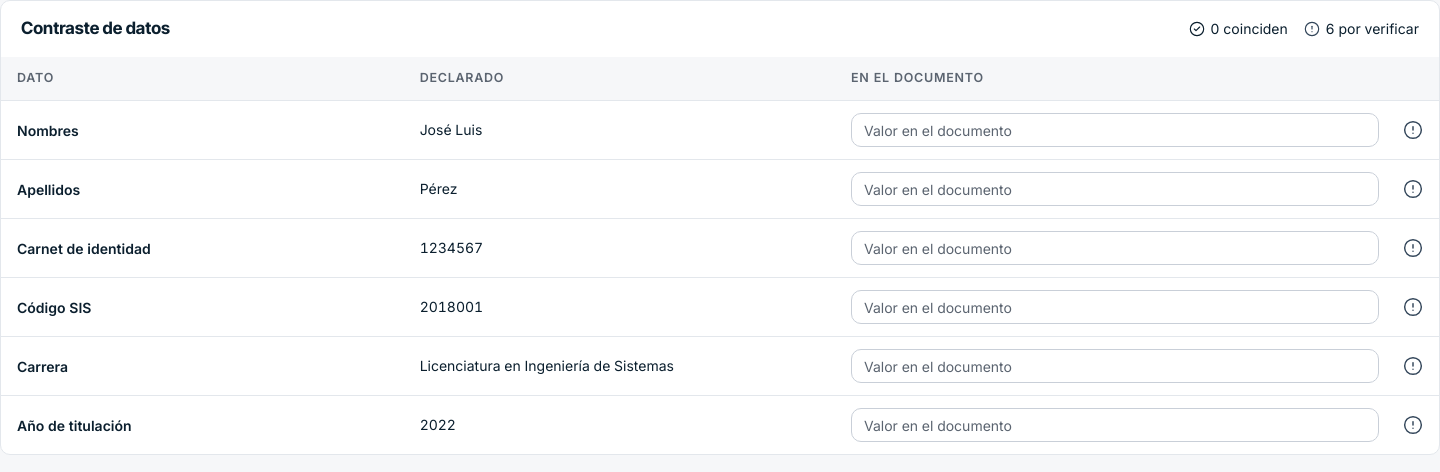
DataContrastPanel › marca Coincide cuando el valor del documento coincide y actualiza el resumen
Type "jose luis" into the field labelled "Nombres". click: [1115, 130]
box: [851,113,1379,147]
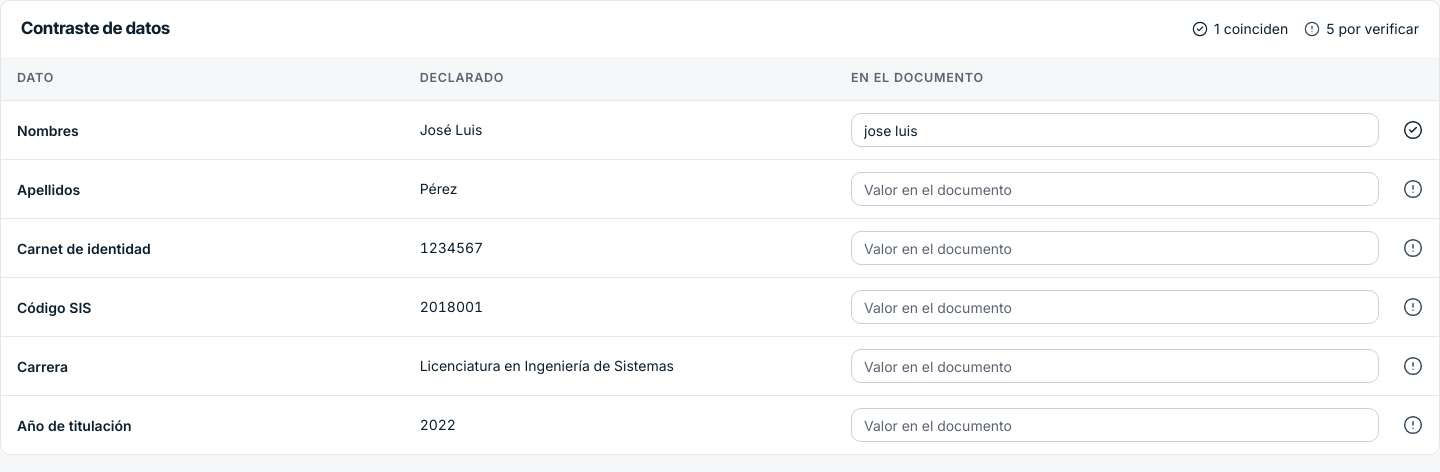
Expected: the text "1 coinciden" is shown, [1192,19,1288,39]
Expected: the text "5 por verificar" is shown, [1304,19,1419,39]
Type "2018001" into the field labelled "Código SIS". click: [1115, 307]
box: [851,290,1379,324]
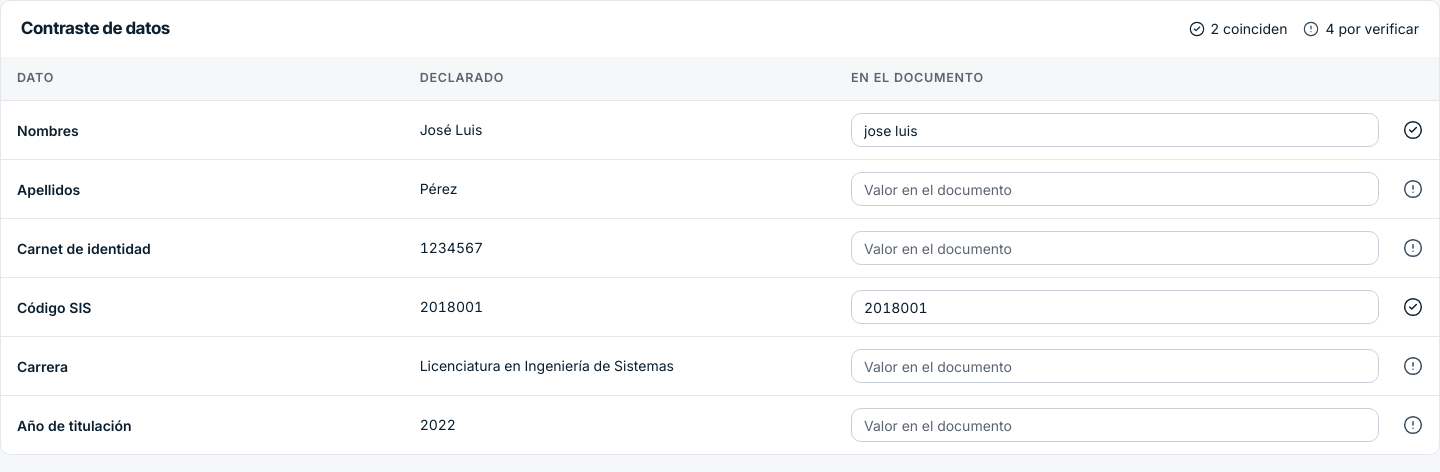
Expected: the text "2 coinciden" is shown, [1188,19,1287,39]
Expected: the text "4 por verificar" is shown, [1303,19,1419,39]
